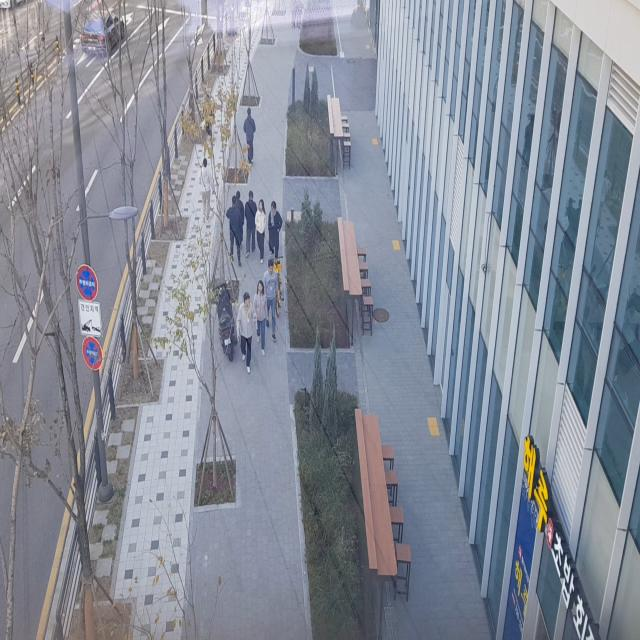Car: (71, 0, 128, 61)
